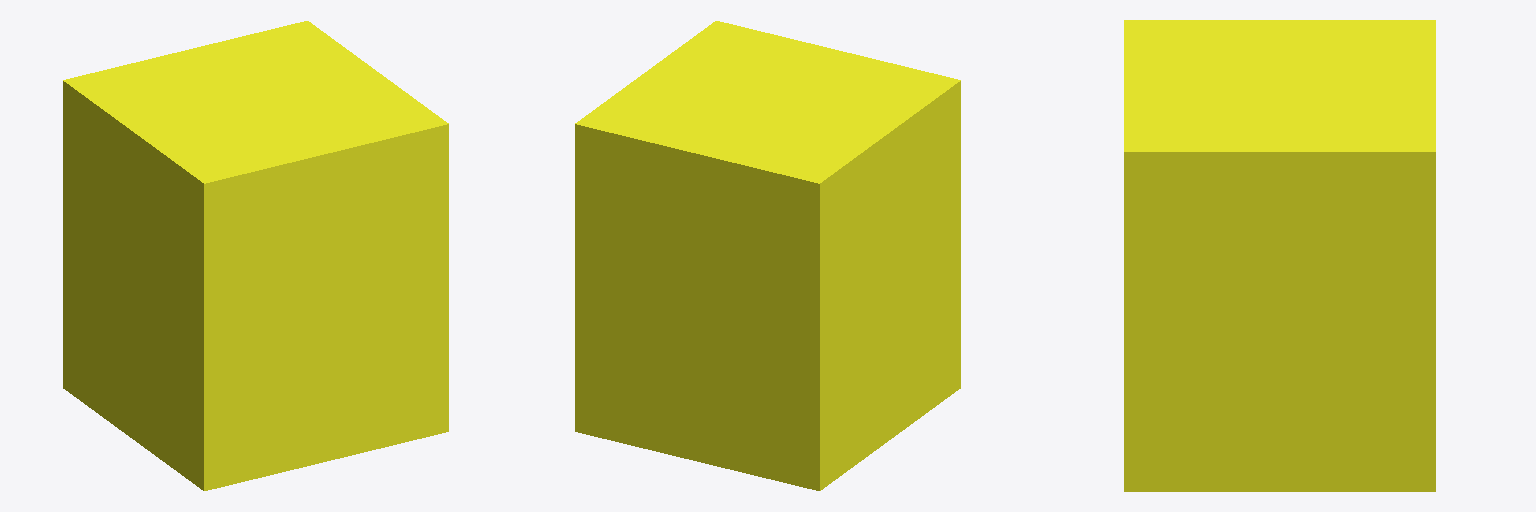
The robot description file, URDF, robot "cube":
<?xml version="1.0"?>
<robot name="cube">
<link name="base_link">
    <visual>
        <geometry>
            <mesh filename="Cube.stl" scale="0.001 0.001 0.001"/>
        </geometry>
        <material name="blue">
            <color rgba="1. 1 .2 1"/>
        </material>
    </visual>
    <collision>
        <geometry>
            <mesh filename="Cube.stl" scale="0.001 0.001 0.001"/>
        </geometry>
        <contact_coefficients mu="0.5" kp="1000"/>
    </collision>
</link>
</robot>

--- Facts derived from the render (not from the file) ---
3 views of the same robot in one strip: view 1: azimuth 30°, elevation 25°; view 2: azimuth 150°, elevation 25°; view 3: azimuth 270°, elevation 25° (orthographic).
Model cube with 1 links and 0 joints (none), rooted at base_link, posed every joint at zero.
Links seen in each view (by area): view 1: base_link; view 2: base_link; view 3: base_link.
Boxes of the visible links, bbox=[...] form: base_link: bbox=[63, 21, 448, 490]; base_link: bbox=[575, 21, 960, 490]; base_link: bbox=[1124, 20, 1435, 491].
Size in the robot's own frame: 0.025 by 0.025 by 0.03 metres.
1 mesh visuals loaded from 1 distinct referenced files (1 binary STL).